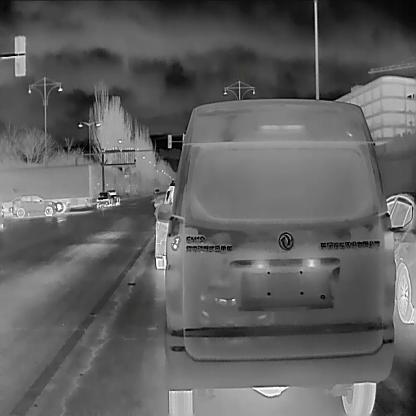car: (152, 98, 397, 415), (383, 190, 415, 324), (152, 180, 176, 269), (8, 193, 55, 217), (94, 190, 112, 208), (106, 188, 120, 204), (154, 188, 160, 192)
truck: (0, 162, 92, 216)
